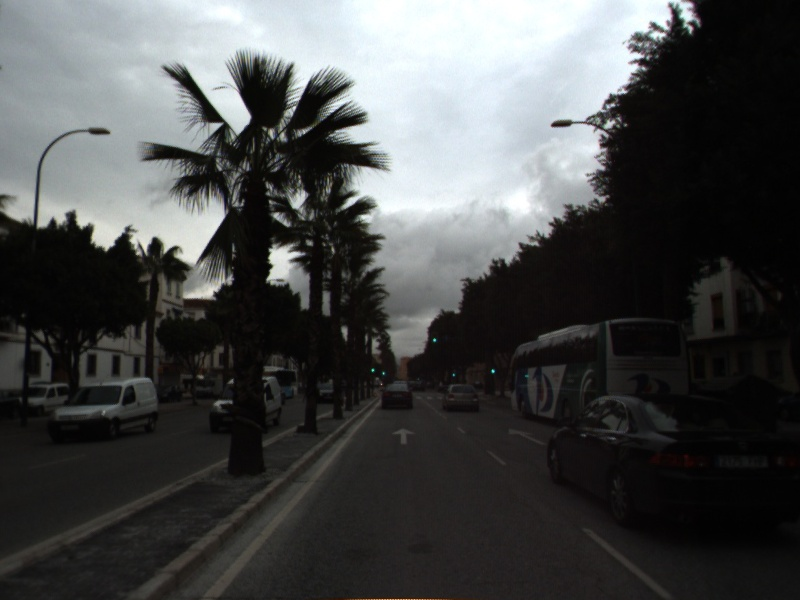STRAIGHT: (506, 425, 550, 447), (390, 426, 418, 447)
